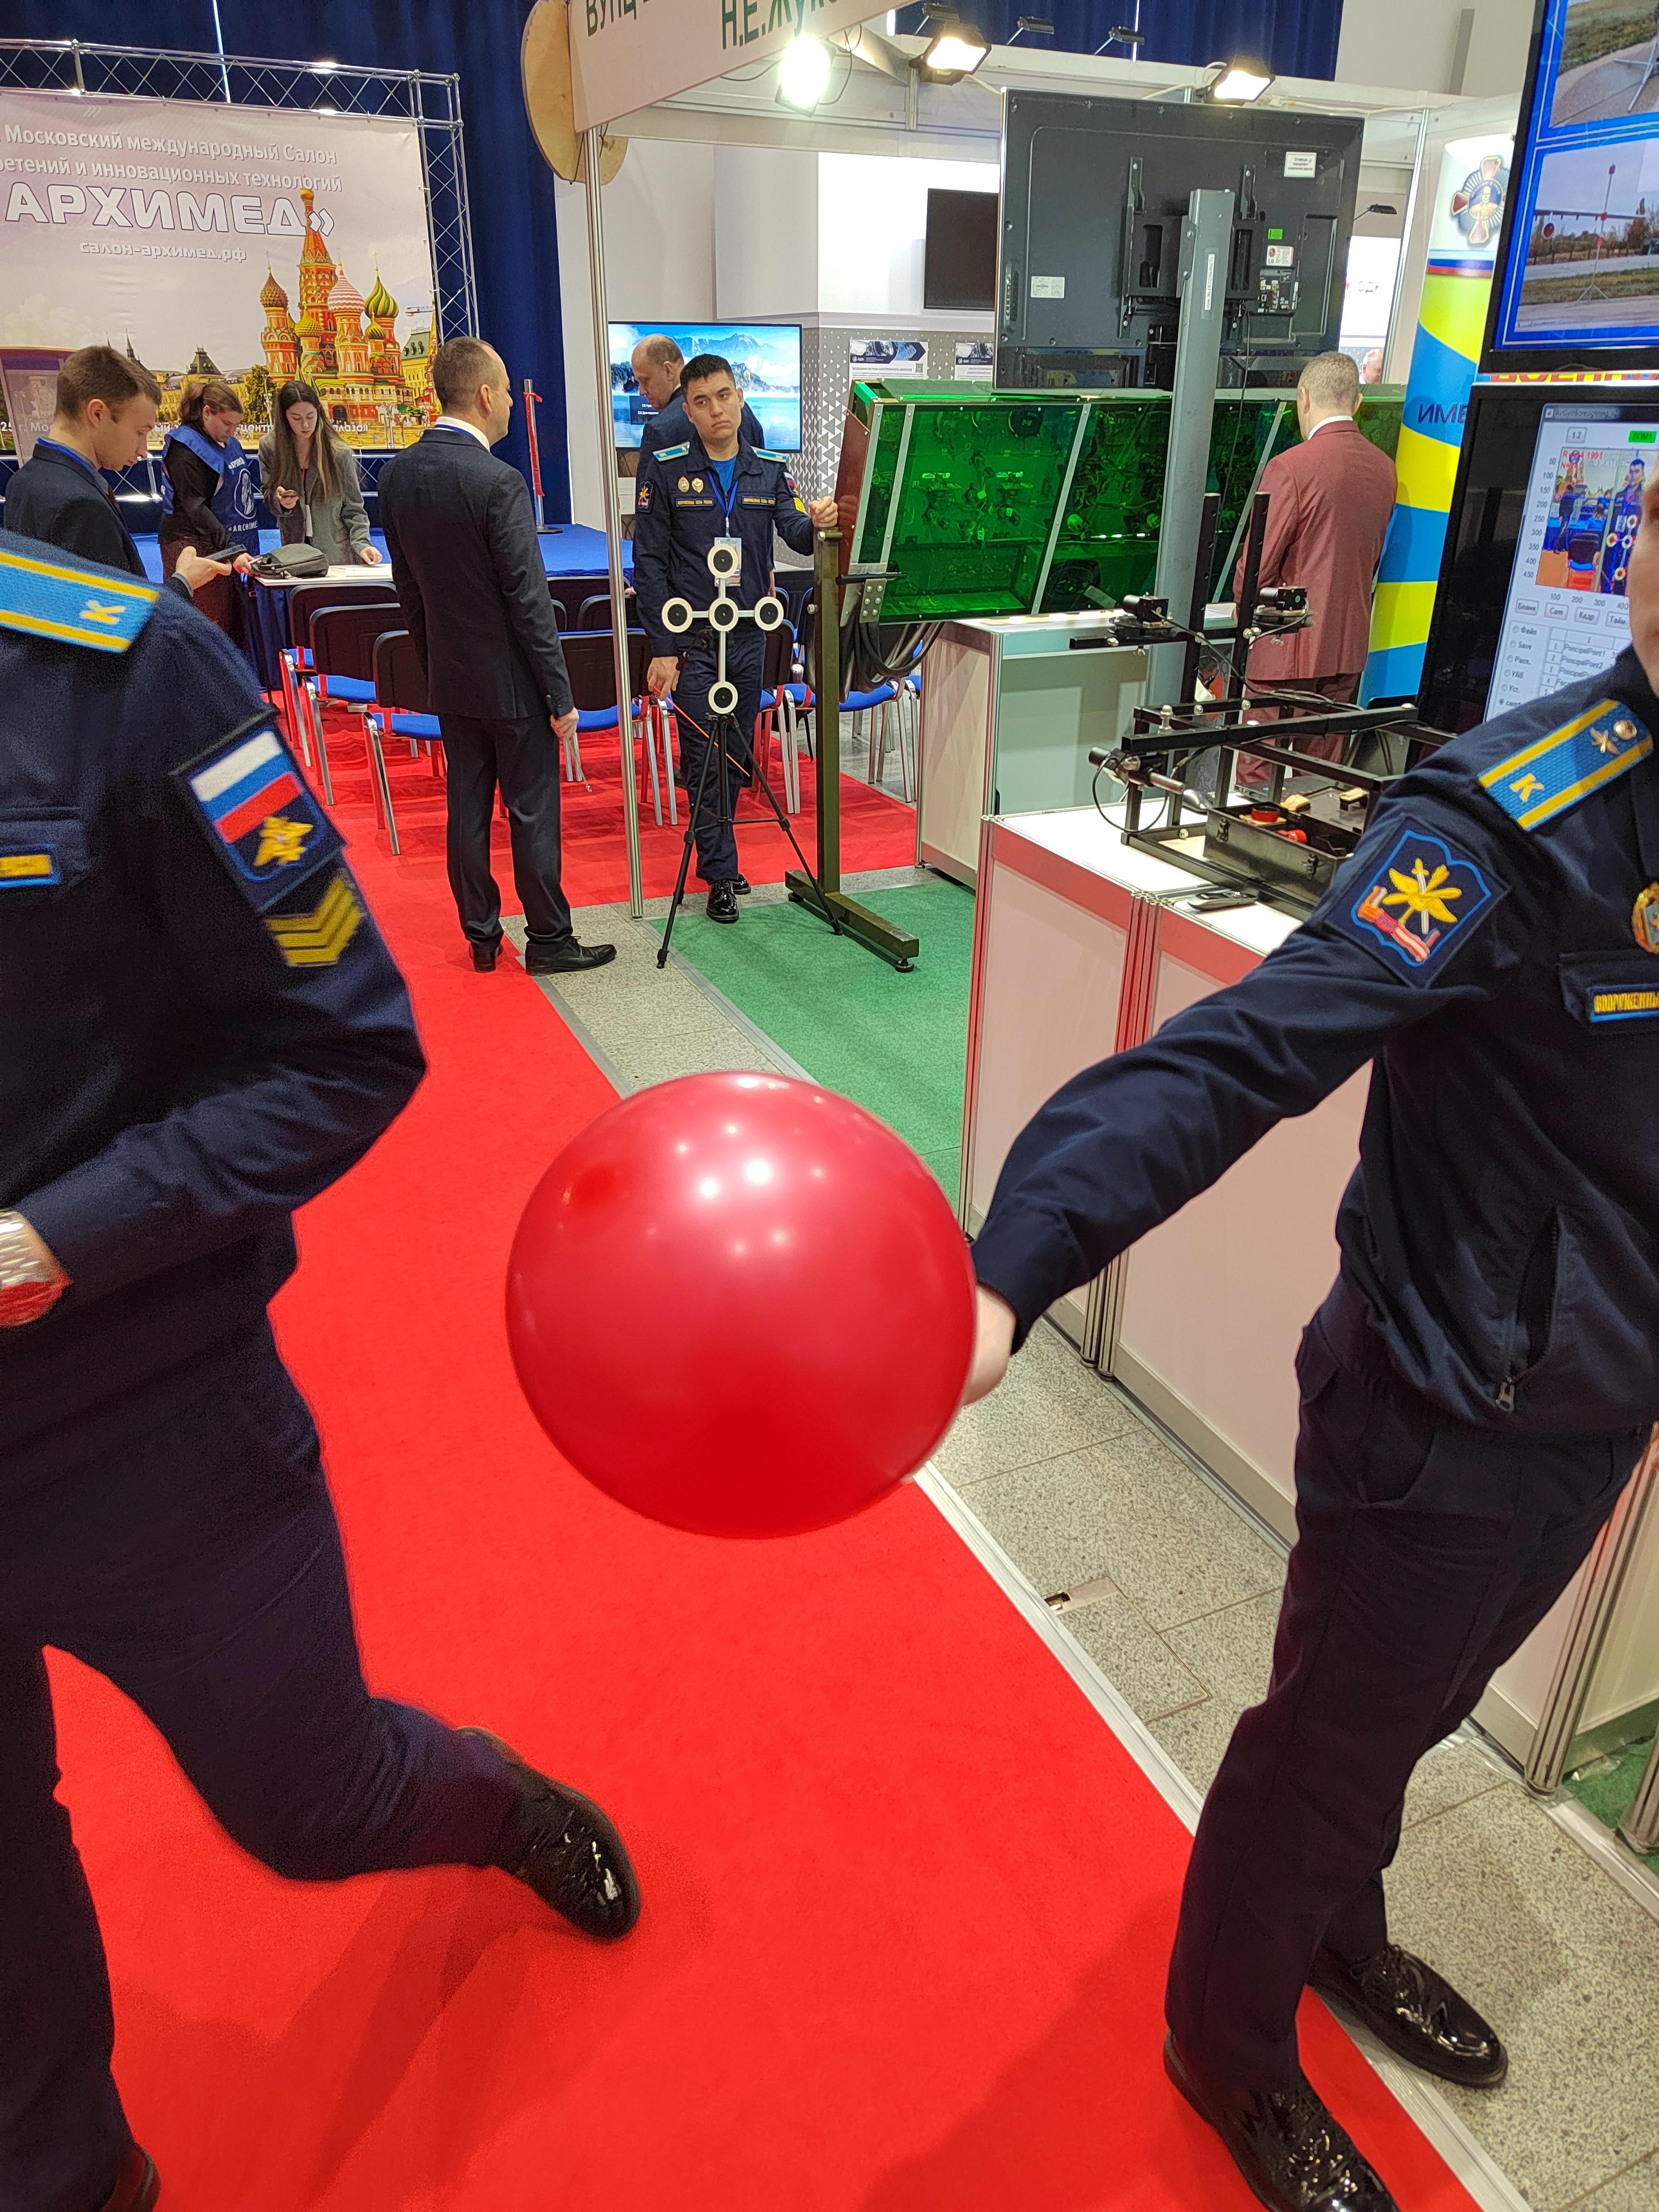red: (500, 1061, 983, 1540)
